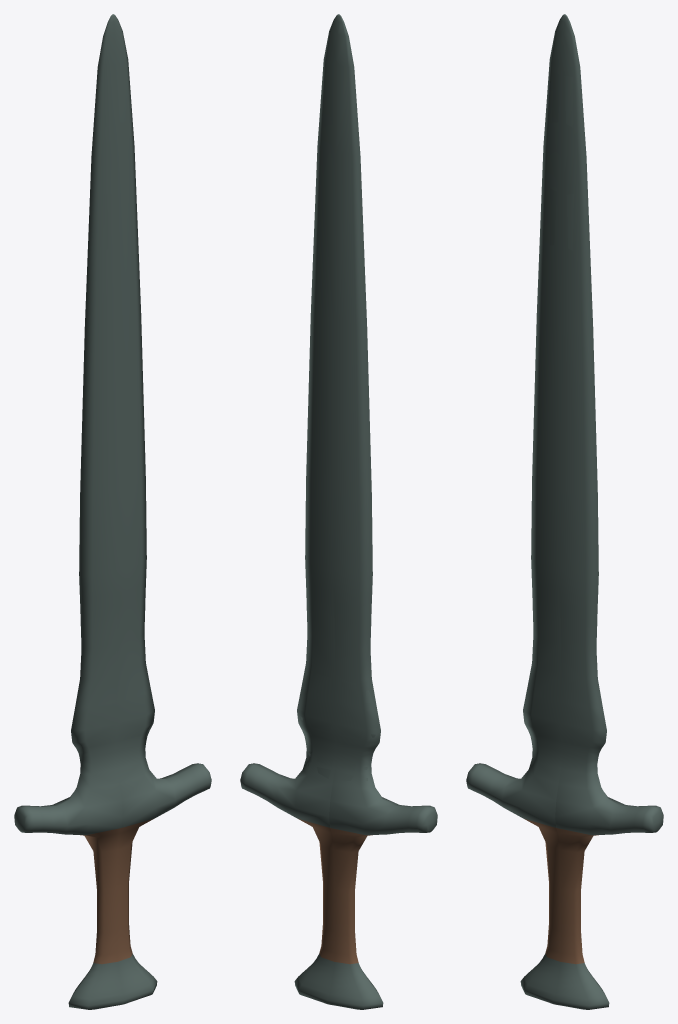
Rendered from Sword.fbx.
The picture shows the model from 3 angles, left to right: view 1: azimuth 30°, elevation 25°; view 2: azimuth 150°, elevation 25°; view 3: azimuth 330°, elevation 25°; orthographic projection.
Visible parts, largest first — view 1: Cube; view 2: Cube; view 3: Cube.
Boxes of the visible parts, x1=… form: Cube: x1=14, y1=14, x2=211, y2=1009; Cube: x1=240, y1=14, x2=437, y2=1009; Cube: x1=466, y1=14, x2=663, y2=1009.
Size of the model in its own units: 80.38 by 401 by 15.86.
